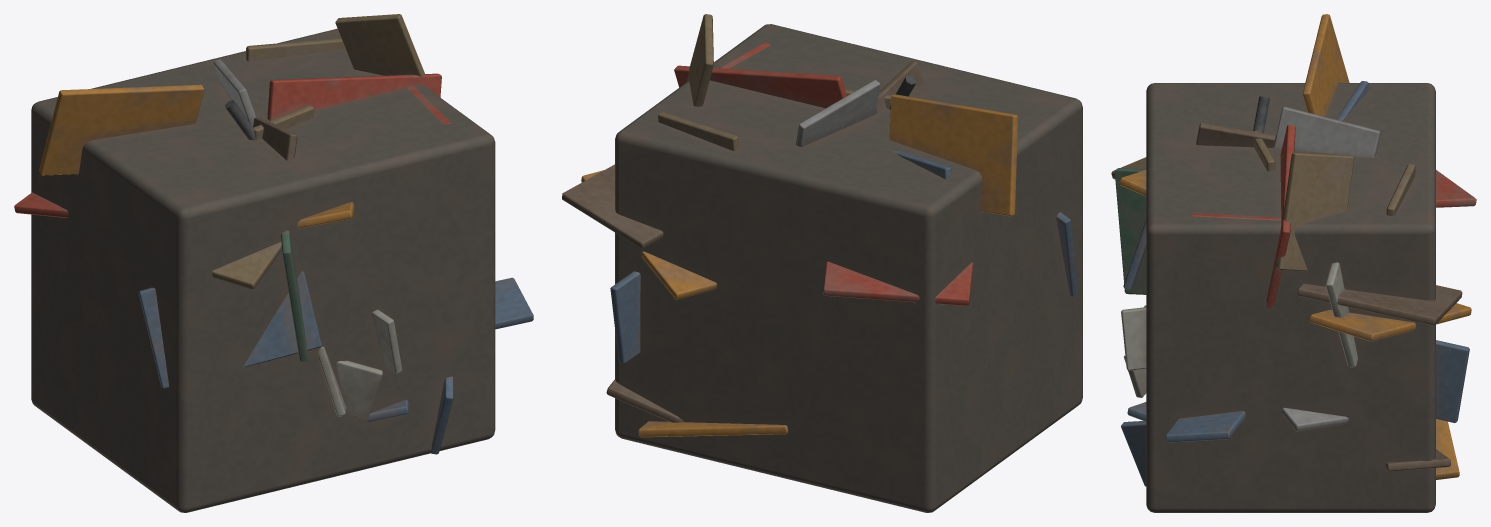
File: zlom_kostka.glb
3 views of the same model, side by side, from view 1: azimuth 30°, elevation 25°; view 2: azimuth 150°, elevation 25°; view 3: azimuth 270°, elevation 25° (orthographic). The views are drawn at different scales.
Parts seen in each view (by area): view 1: Kostka; view 2: Kostka; view 3: Kostka.
Boxes of the visible parts, left/top/right/bottom form: Kostka: left=14, top=14, right=533, bottom=512; Kostka: left=562, top=14, right=1082, bottom=512; Kostka: left=1111, top=14, right=1476, bottom=512.
Bounding box in the file's own units: 1.57 × 1.36 × 1.26.
1 material, 1 textured.
